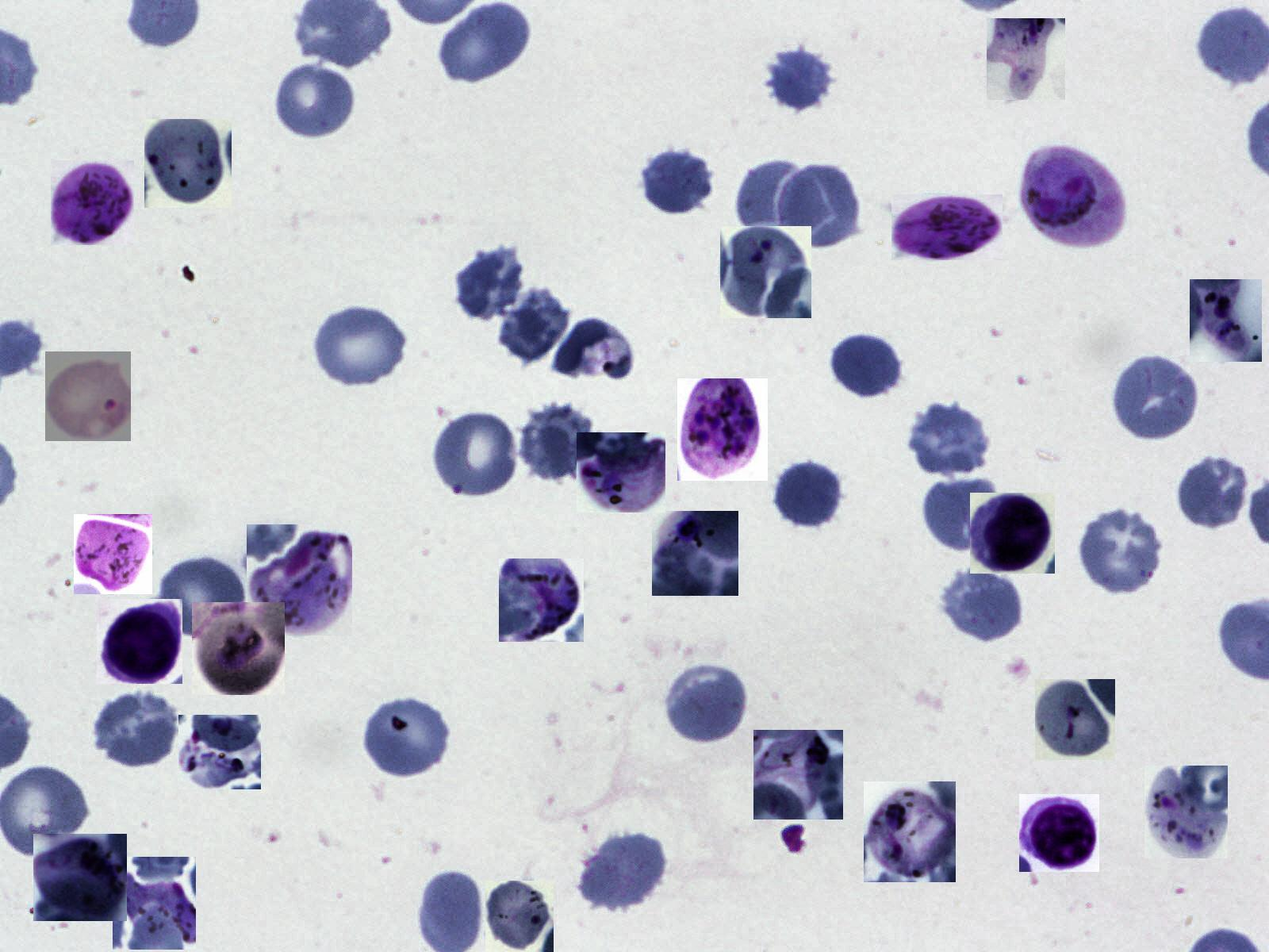Infected: (247, 524, 352, 635), (1017, 144, 1123, 246), (677, 378, 768, 481), (864, 781, 956, 882), (192, 602, 285, 695), (721, 226, 812, 318), (33, 834, 127, 921), (753, 730, 843, 820), (144, 119, 232, 208), (45, 351, 131, 441), (1144, 766, 1228, 858), (113, 857, 196, 950), (891, 194, 1003, 260), (652, 511, 738, 596), (97, 599, 182, 684), (499, 559, 584, 642), (51, 160, 134, 245), (577, 432, 665, 512), (970, 493, 1055, 574), (1035, 679, 1115, 760), (987, 18, 1065, 100), (74, 514, 152, 594), (1019, 794, 1099, 872), (178, 715, 261, 789), (1190, 279, 1262, 362), (485, 881, 554, 952)
Uninfected: (311, 300, 411, 390), (1076, 503, 1167, 598), (358, 690, 453, 781), (1110, 351, 1200, 444), (738, 159, 833, 247), (436, 2, 536, 85), (431, 409, 521, 501), (155, 553, 248, 641), (575, 829, 667, 913), (91, 687, 182, 768), (778, 163, 863, 248), (664, 661, 750, 745), (273, 60, 358, 143), (907, 398, 994, 478), (920, 473, 1004, 554), (939, 566, 1026, 643), (453, 239, 529, 324), (517, 400, 596, 481), (1175, 450, 1251, 532), (497, 286, 571, 364), (548, 315, 633, 381), (640, 147, 719, 217), (760, 44, 836, 116), (830, 333, 904, 401), (775, 461, 844, 530)
